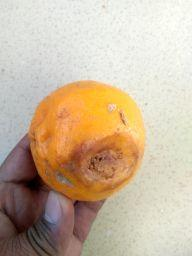Unripe: (30, 80, 143, 203)
